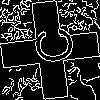C: (25, 25, 75, 67)
